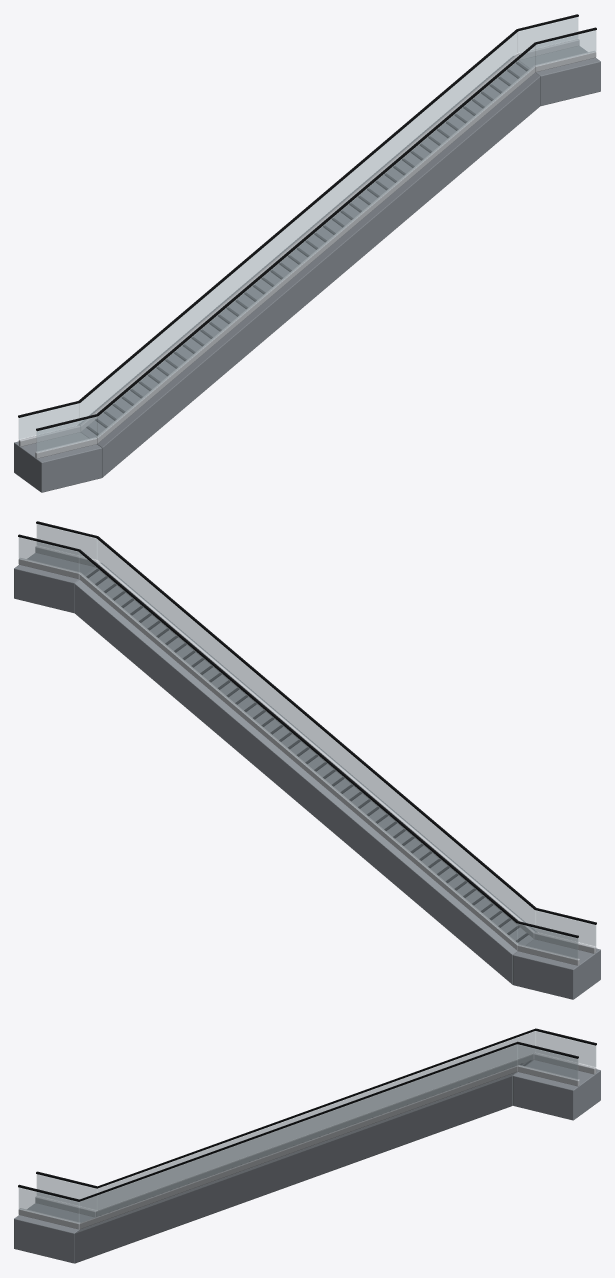
The model's file is escalator.glb.
The picture shows the model from 3 angles, top to bottom: view 1: azimuth 30°, elevation 25°; view 2: azimuth 150°, elevation 25°; view 3: azimuth 330°, elevation 25°; orthographic projection.
Parts seen in each view (by area): view 1: truss, glass, skirt, handrail, step; view 2: truss, glass, skirt, handrail, step; view 3: truss, glass, skirt, handrail.
Part boxes in pixels (x1,y1,x2,y2): truss: (14, 46, 600, 492); glass: (18, 17, 596, 452); skirt: (18, 39, 596, 458); handrail: (18, 14, 596, 431); step: (86, 62, 528, 435); truss: (14, 553, 600, 999); glass: (18, 524, 596, 959); skirt: (18, 546, 596, 965); handrail: (18, 521, 596, 938); step: (86, 569, 528, 942); truss: (14, 1060, 600, 1263); glass: (18, 1031, 596, 1223); skirt: (18, 1053, 596, 1229); handrail: (18, 1028, 596, 1201).
Size of the model in its own units: 22.12 by 12.28 by 1.9.
